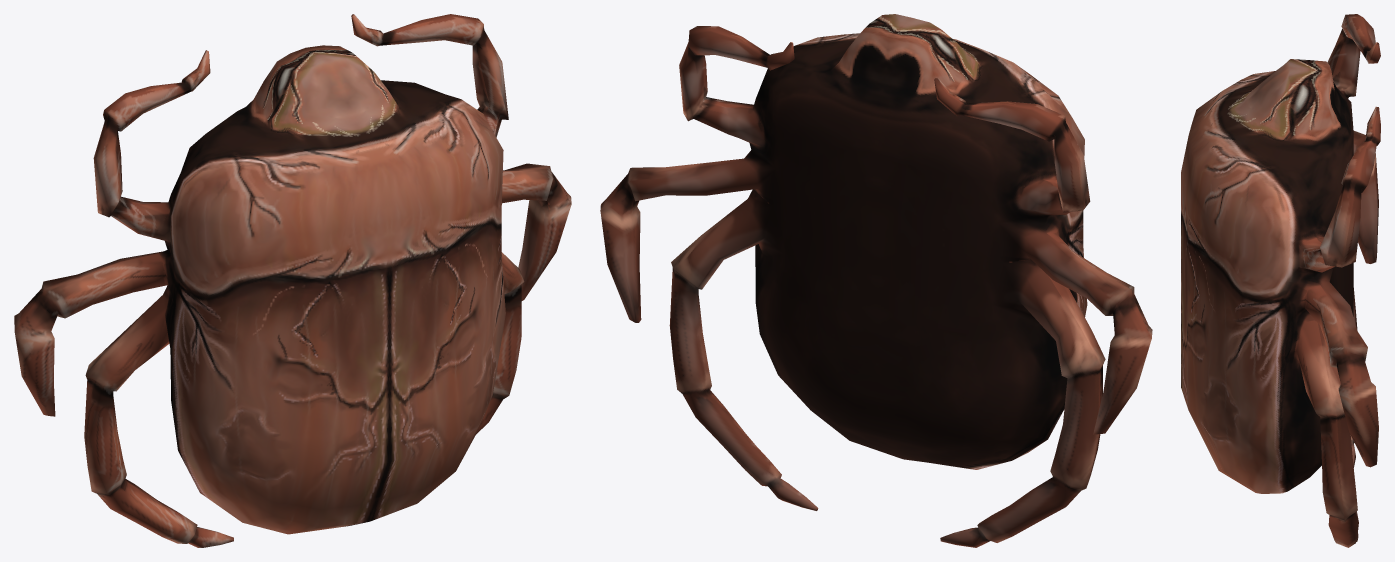
File: Scarab.fbx
3 renders of one model, left to right at view 1: azimuth 30°, elevation 25°; view 2: azimuth 150°, elevation 25°; view 3: azimuth 270°, elevation 25°, orthographic. The views are drawn at different scales.
Parts seen in each view (by area): view 1: Circle; view 2: Circle; view 3: Circle.
Boxes of the visible parts, x1,y1,x2,y2 form: Circle: (14, 14, 571, 547); Circle: (600, 14, 1152, 547); Circle: (1181, 14, 1380, 547).
Bounding box in the file's own units: 576 × 484 × 200.
